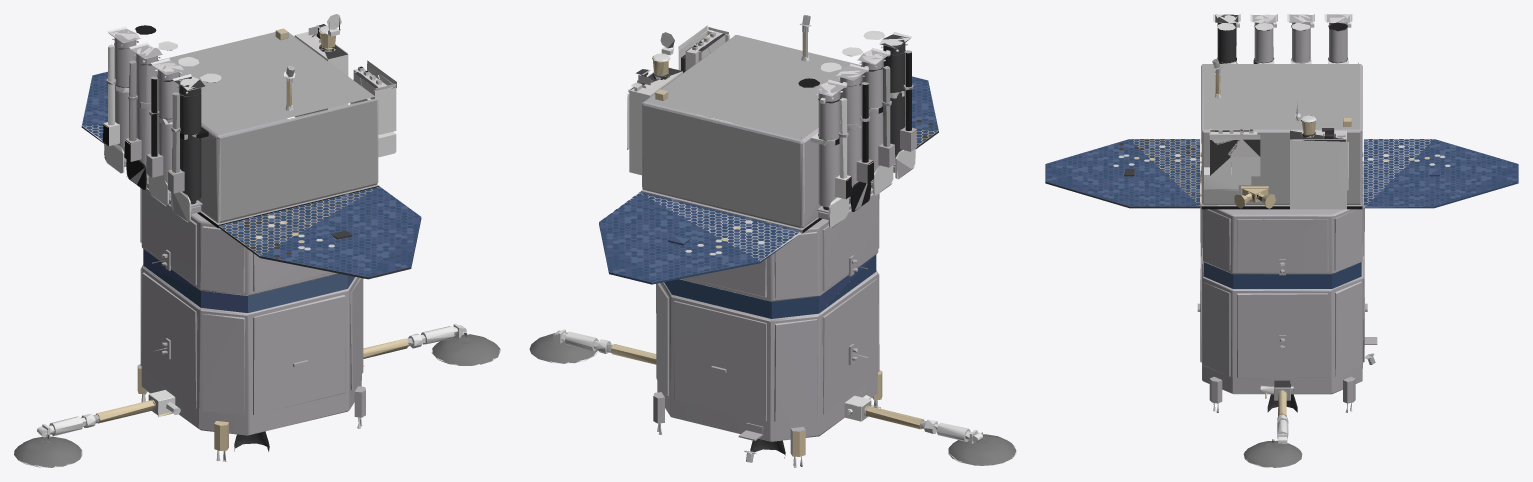
Rendered from sdo.glb.
3 renders of one model, left to right at view 1: azimuth 30°, elevation 25°; view 2: azimuth 150°, elevation 25°; view 3: azimuth 270°, elevation 25°, orthographic. The views are drawn at different scales.
Parts seen in each view (by area): view 1: body, solar-panel; view 2: body, solar-panel; view 3: body, solar-panel.
Part boxes in pixels (x1,y1,x2,y2): body: (14, 14, 500, 467); solar-panel: (81, 71, 421, 312); body: (529, 15, 1016, 467); solar-panel: (599, 76, 938, 318); body: (1045, 14, 1450, 467); solar-panel: (1045, 139, 1518, 288).
Size of the model in its own units: 37.02 by 30.75 by 37.04.
